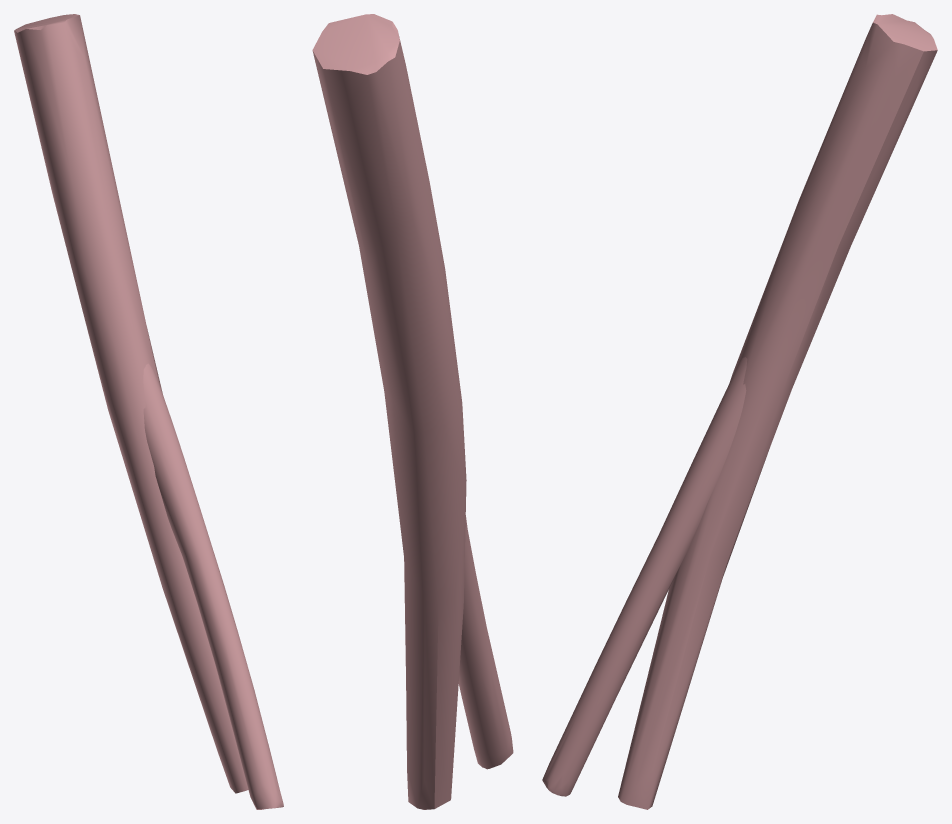
Rendered from fma68594_cx173.glb.
3 renders of one model, left to right at view 1: azimuth 30°, elevation 25°; view 2: azimuth 150°, elevation 25°; view 3: azimuth 270°, elevation 25°, orthographic. The views are drawn at different scales.
Visible parts, largest first — view 1: FMA68594_CX173; view 2: FMA68594_CX173; view 3: FMA68594_CX173.
Boxes of the visible parts, <box> form: FMA68594_CX173: <box>14,14,283,809</box>; FMA68594_CX173: <box>312,14,513,809</box>; FMA68594_CX173: <box>542,14,937,809</box>.
Size of the model in its own units: 0.00755 by 0.0454 by 0.0217.
